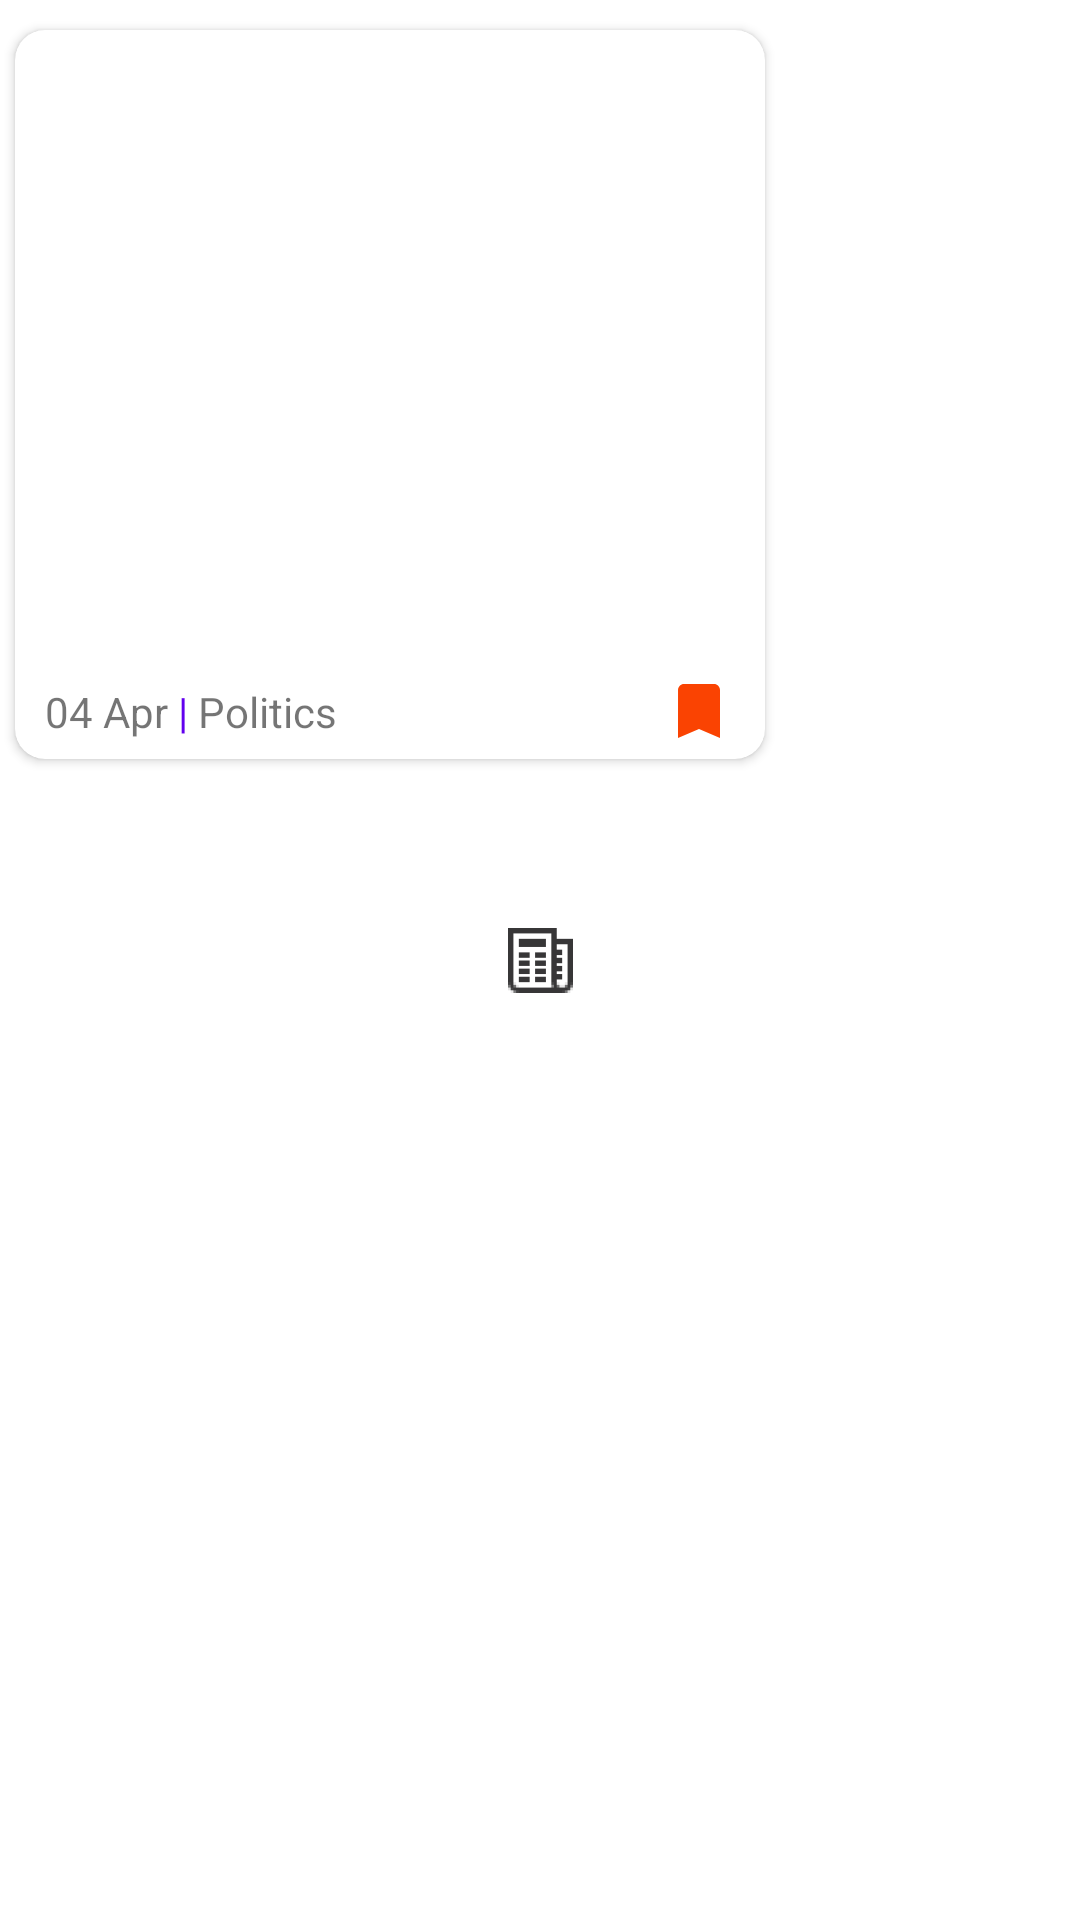

Screen size 1080px×1920px. Icon name, then its center in pixels as [x,y]:
bookmark: [699,711]
